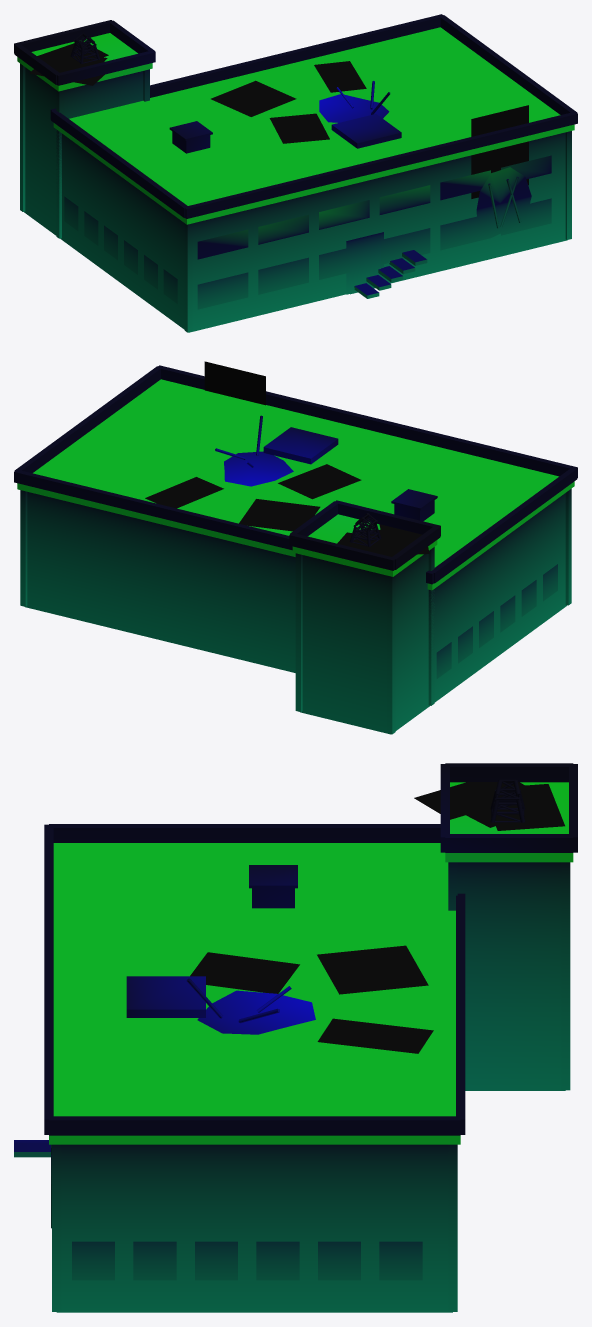
File: genericmilitary_damaged.glb
3 views of the same model, one above another, from view 1: azimuth 30°, elevation 25°; view 2: azimuth 150°, elevation 25°; view 3: azimuth 270°, elevation 25° (orthographic). The views are drawn at different scales.
Visible parts, largest first — view 1: lod0; view 2: lod0; view 3: lod0.
Boxes of the visible parts, <box> form: lod0: <box>14,14,577,332</box>; lod0: <box>14,361,577,734</box>; lod0: <box>14,763,577,1312</box>.
Size of what is drawn, in the model's own units: 23.5 by 10.12 by 18.5.
